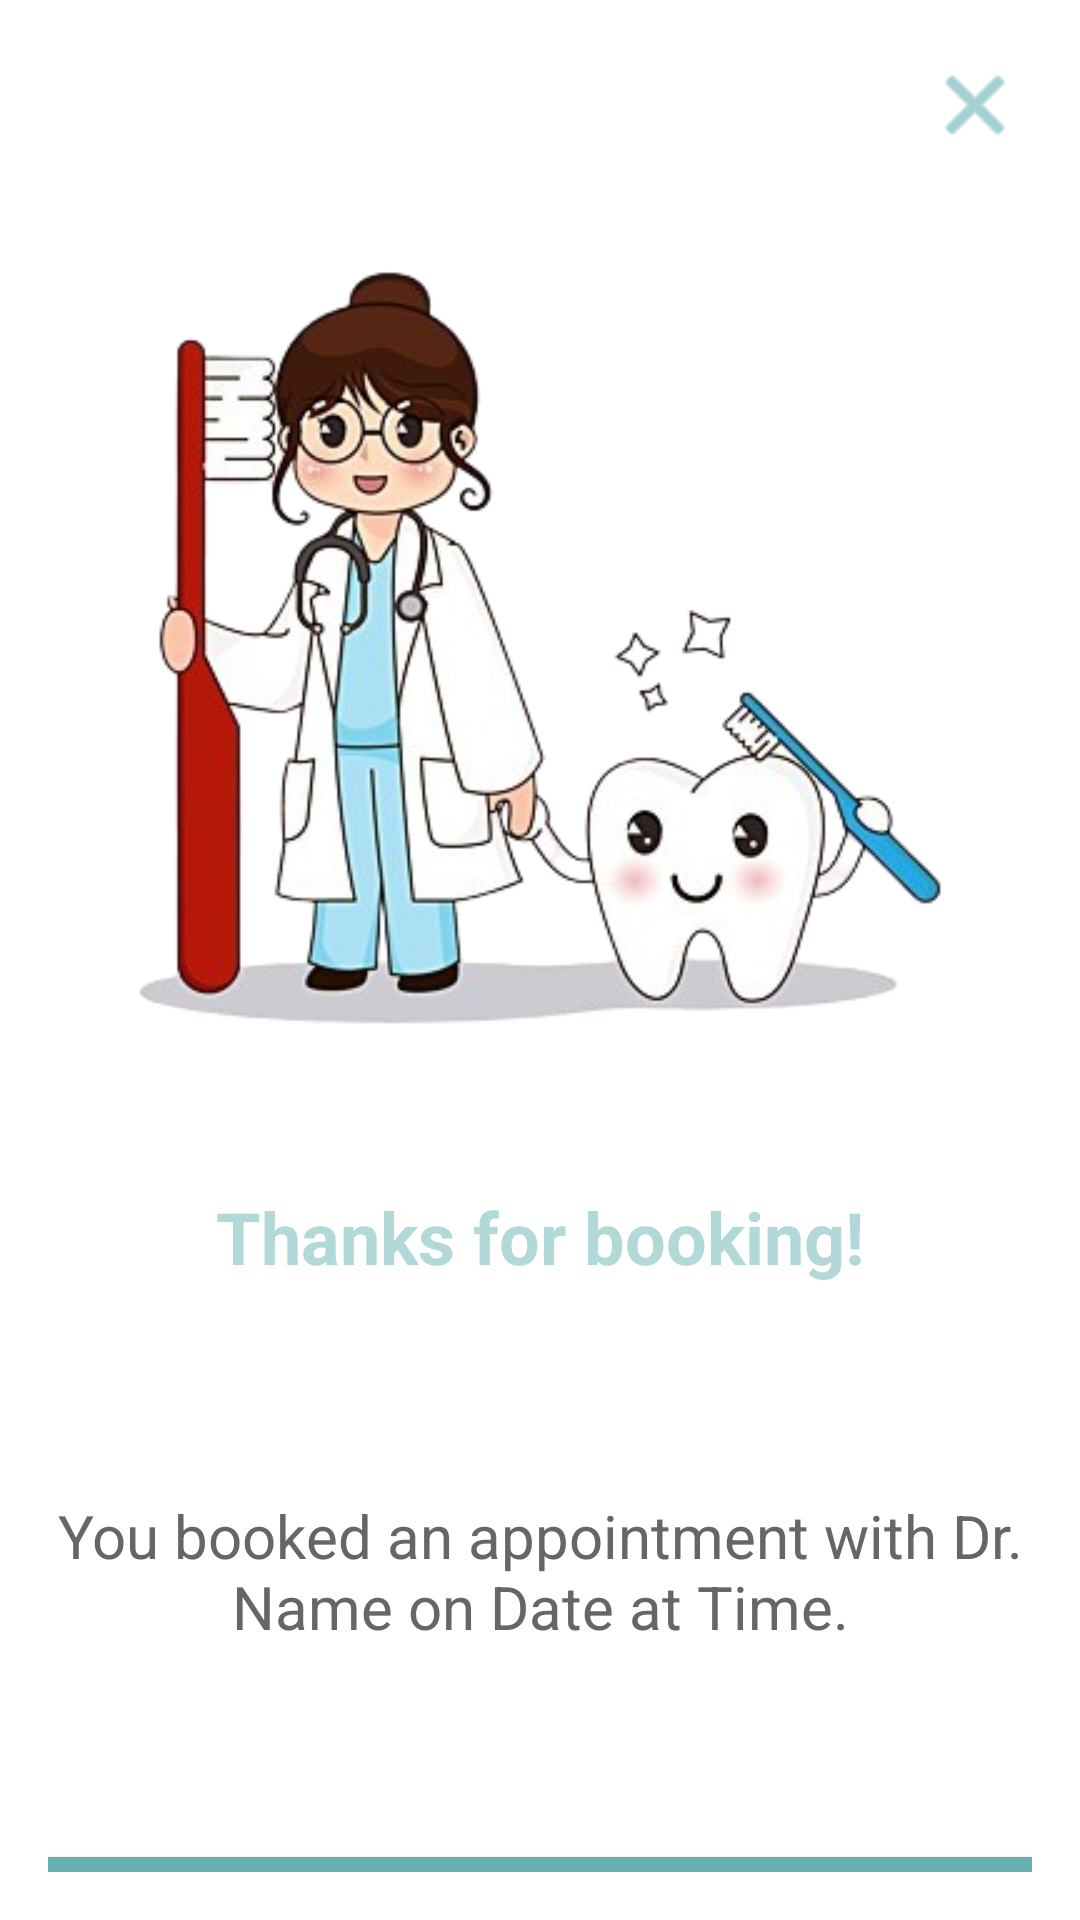

Icons on this 1080 x 1920 Android screen, each with its box as region(x1, y1, x2, y2):
Close Button: region(945, 75, 1005, 135)
